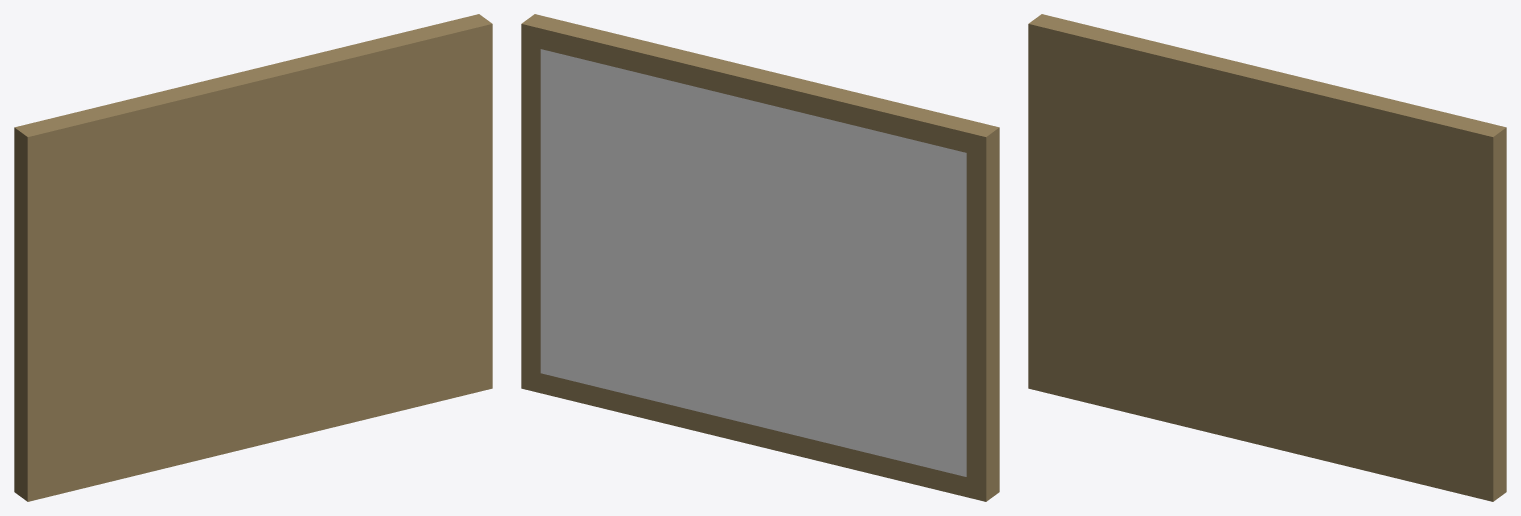
File: painting.gltf
The picture shows the model from 3 angles, left to right: view 1: azimuth 30°, elevation 25°; view 2: azimuth 150°, elevation 25°; view 3: azimuth 330°, elevation 25°; orthographic projection.
Parts seen in each view (by area): view 1: painting; view 2: painting; view 3: painting.
Part boxes in pixels (left/top/right/bottom): painting: left=14, top=14, right=492, bottom=501; painting: left=521, top=14, right=999, bottom=501; painting: left=1028, top=14, right=1506, bottom=501.
Size of the model in its own units: 1.2 by 0.9 by 0.061.
